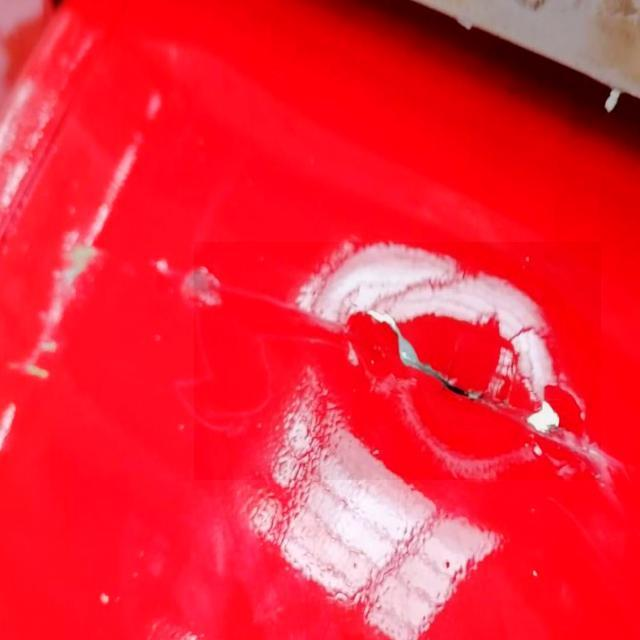crack: (195, 243, 602, 481)
